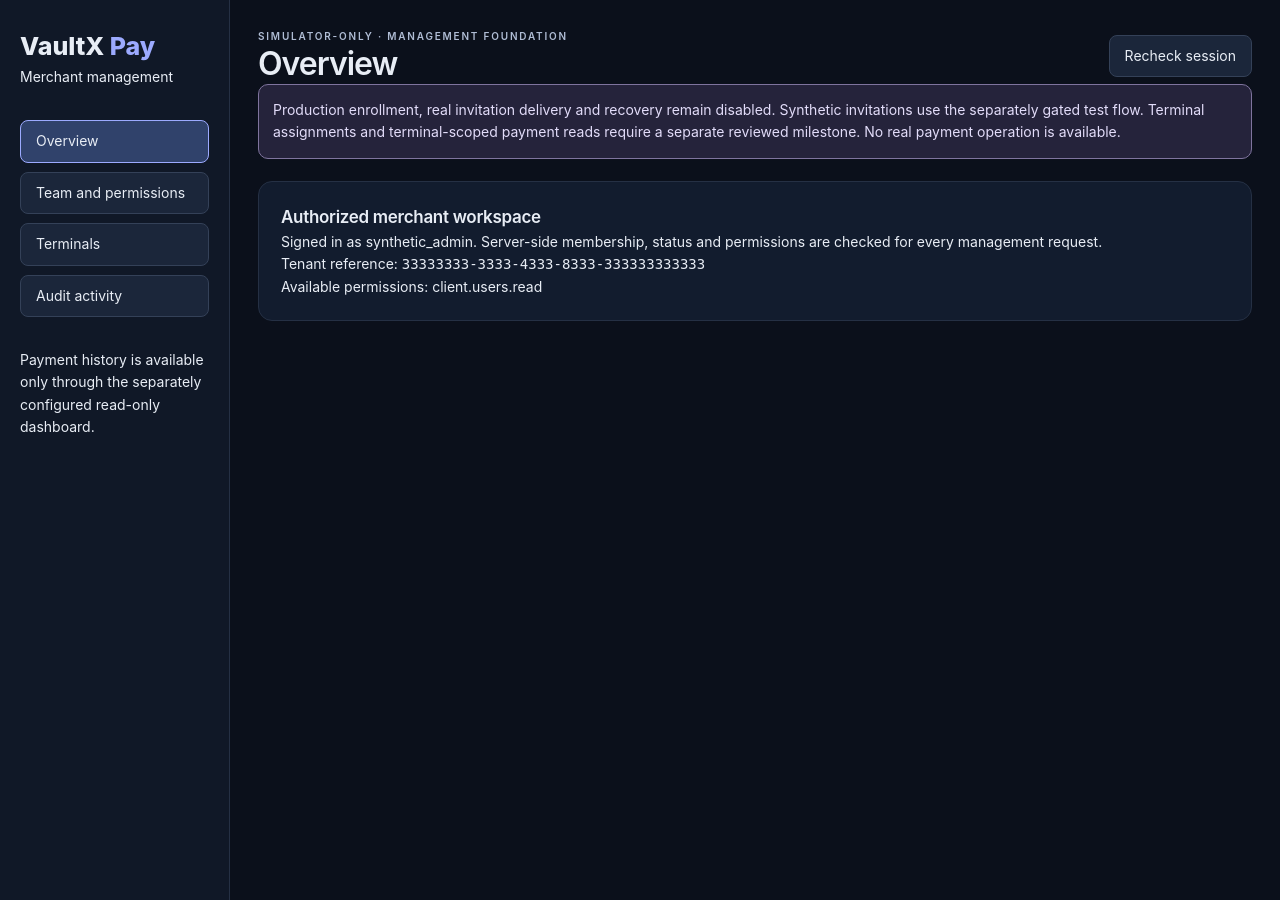
hides invitation controls without exact nondelegable permissions
Click the button "Team and permissions".
click(114, 193)  # box [20, 172, 209, 214]
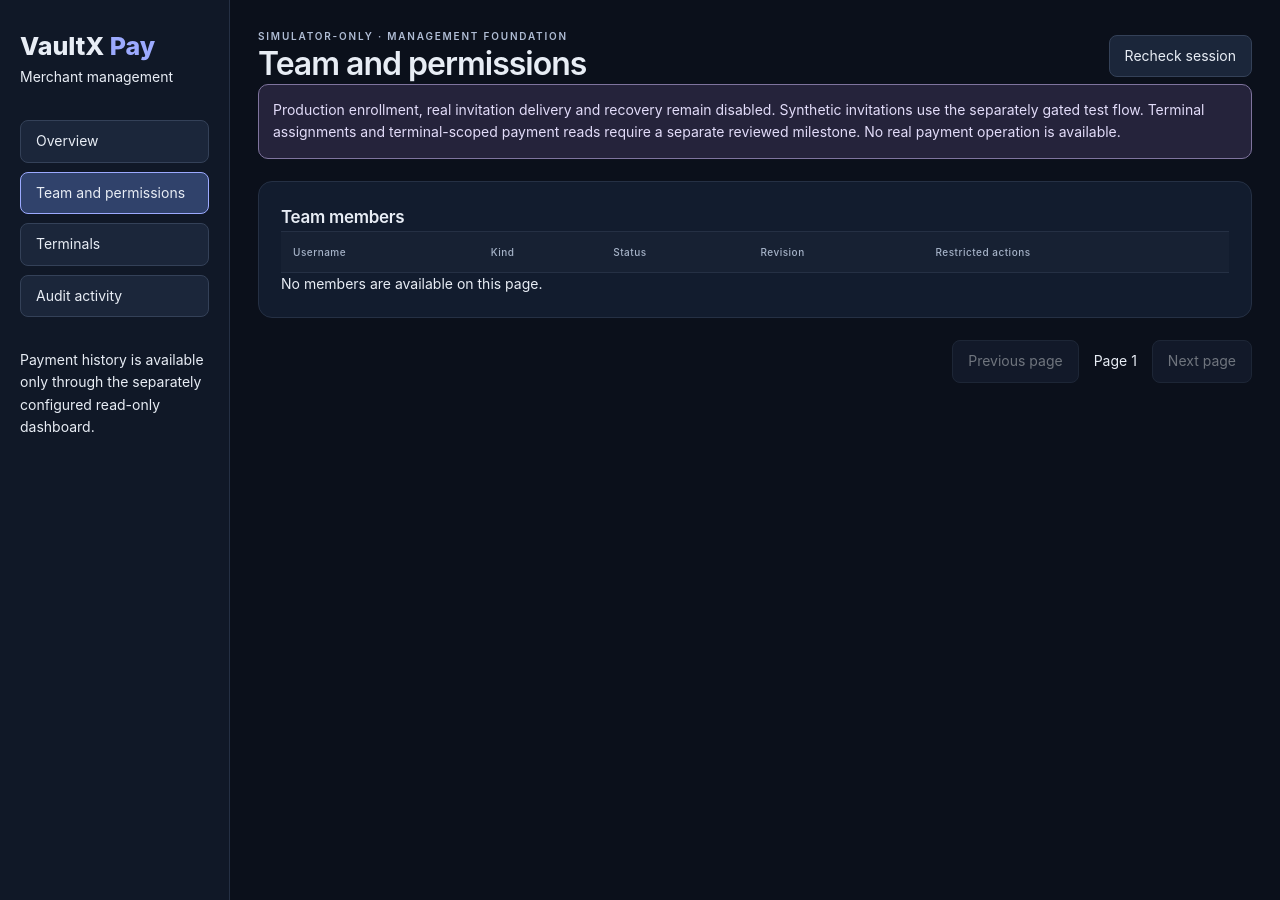
Expected: the text "No members are available on this page." is shown, [281, 275, 542, 292]
